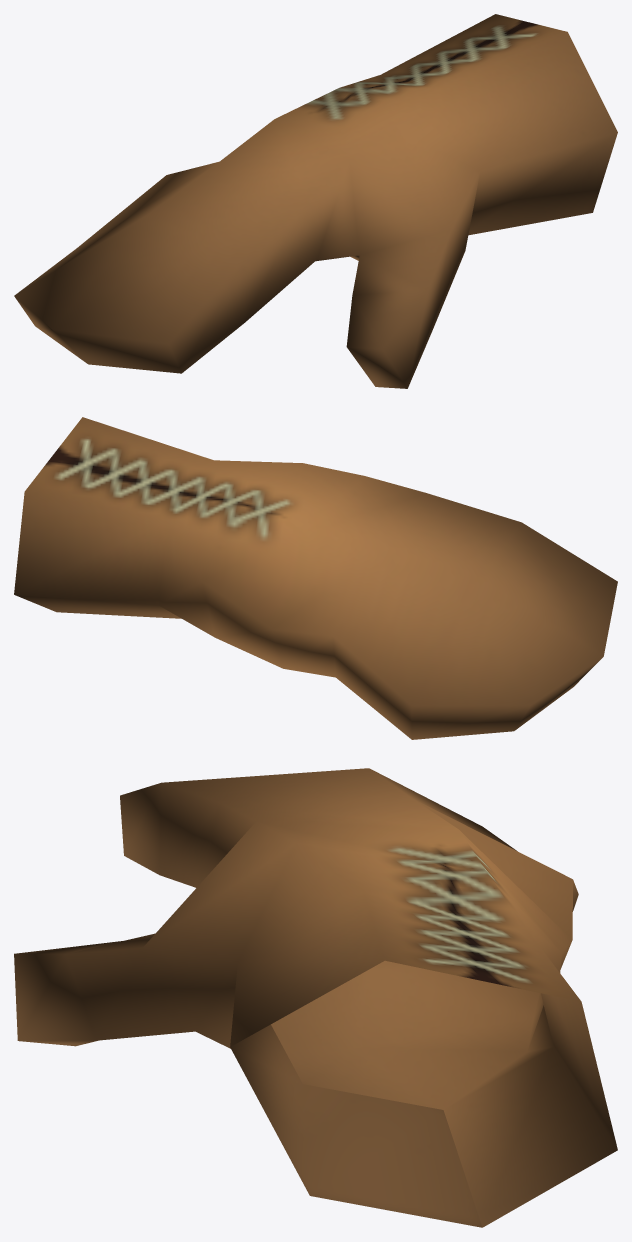
Rendered from LAS_1_Hand_R.obj.
The picture shows the model from 3 angles, top to bottom: view 1: azimuth 30°, elevation 25°; view 2: azimuth 150°, elevation 25°; view 3: azimuth 270°, elevation 25°; orthographic projection. The views are drawn at different scales.
Parts seen in each view (by area): view 1: Knight.017_proxy741.obj.013; view 2: Knight.017_proxy741.obj.013; view 3: Knight.017_proxy741.obj.013.
Boxes of the visible parts, x1,y1,x2,y2 form: Knight.017_proxy741.obj.013: (14,14,617,388); Knight.017_proxy741.obj.013: (14,417,617,739); Knight.017_proxy741.obj.013: (14,768,617,1227).
Bounding box in the file's own units: 0.2894 × 0.1056 × 0.1924.
